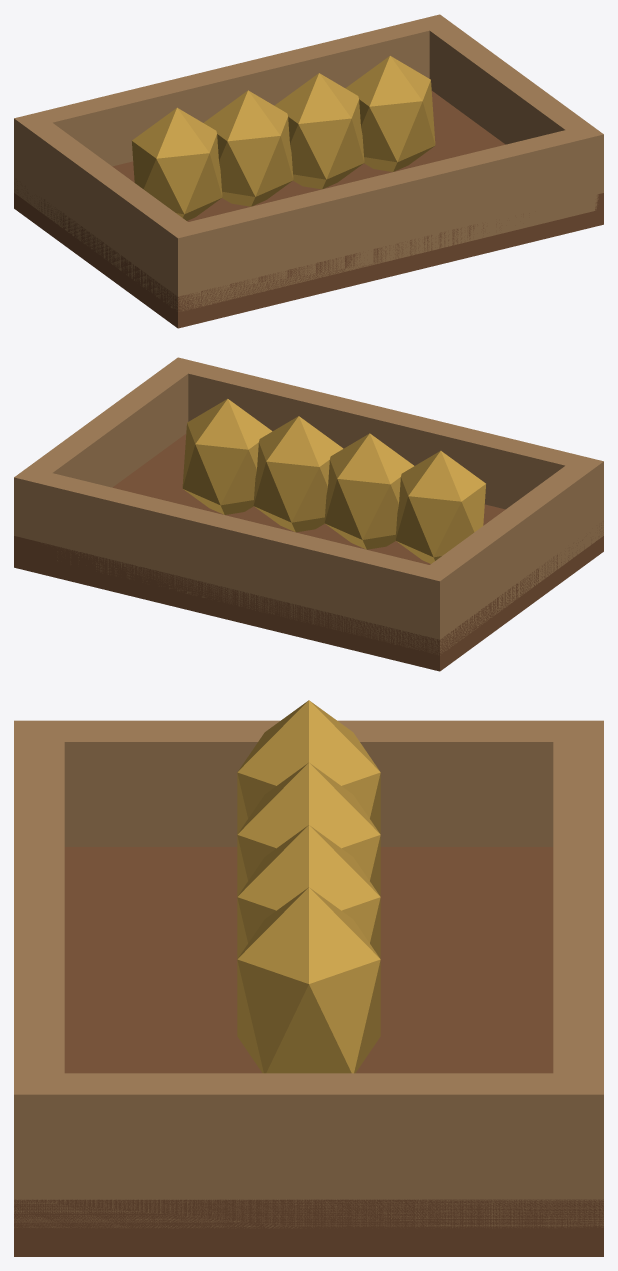
Rendered from set_pretzel_board.glb.
The picture shows the model from 3 angles, top to bottom: view 1: azimuth 30°, elevation 25°; view 2: azimuth 150°, elevation 25°; view 3: azimuth 270°, elevation 25°; orthographic projection. The views are drawn at different scales.
Visible parts, largest first — view 1: set_pretzel_board; view 2: set_pretzel_board; view 3: set_pretzel_board.
Boxes of the visible parts, <box> form: set_pretzel_board: <box>14,14,603,328</box>; set_pretzel_board: <box>14,357,603,671</box>; set_pretzel_board: <box>14,700,603,1256</box>.
Bounding box in the file's own units: 0.42 × 0.133 × 0.28.
